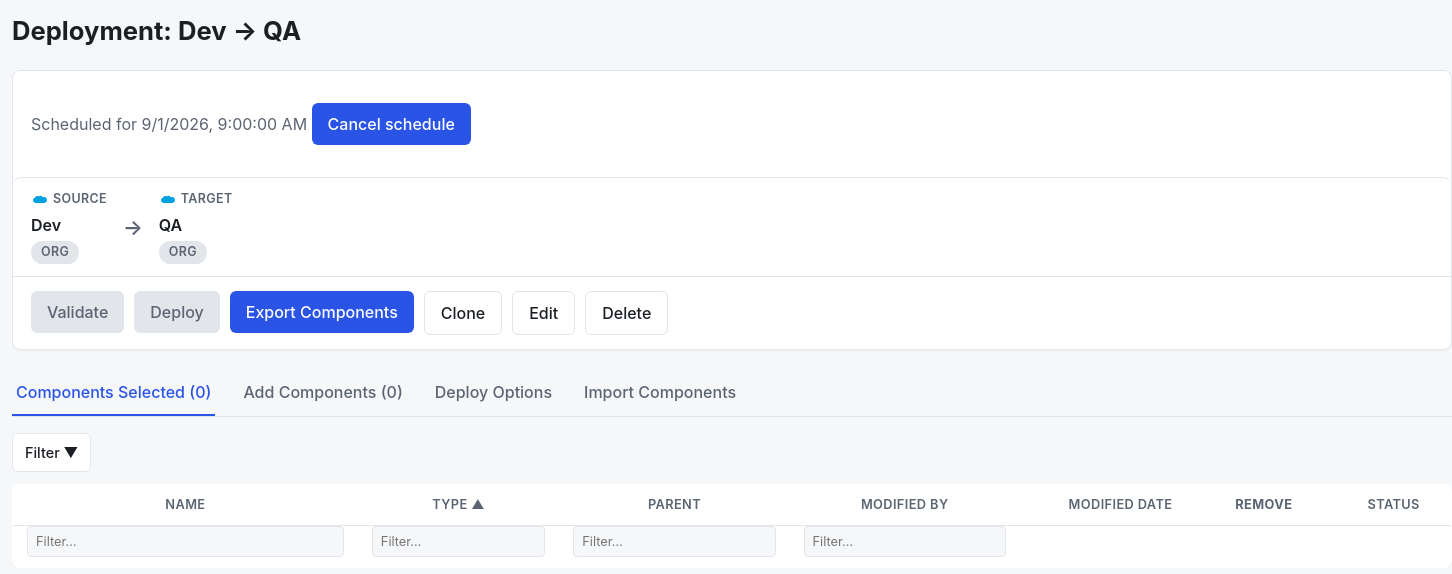
Test: DeploymentDetailPage — scheduling › cancels a schedule and shows the picker again
The width and height of the screenshot is (1452, 574).
Step 1. Click the button "Cancel schedule" → (391, 124), box left=312, top=103, right=471, bottom=145
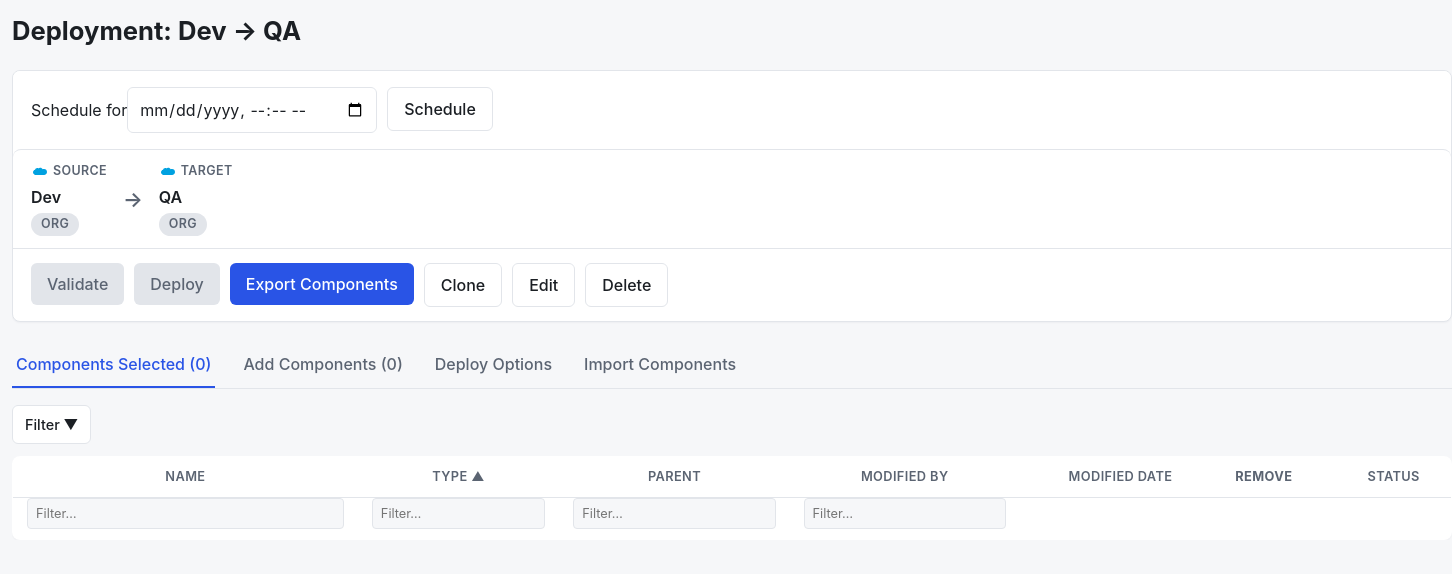
Expected: the field labelled "Schedule for" is shown, left=127, top=87, right=377, bottom=133
